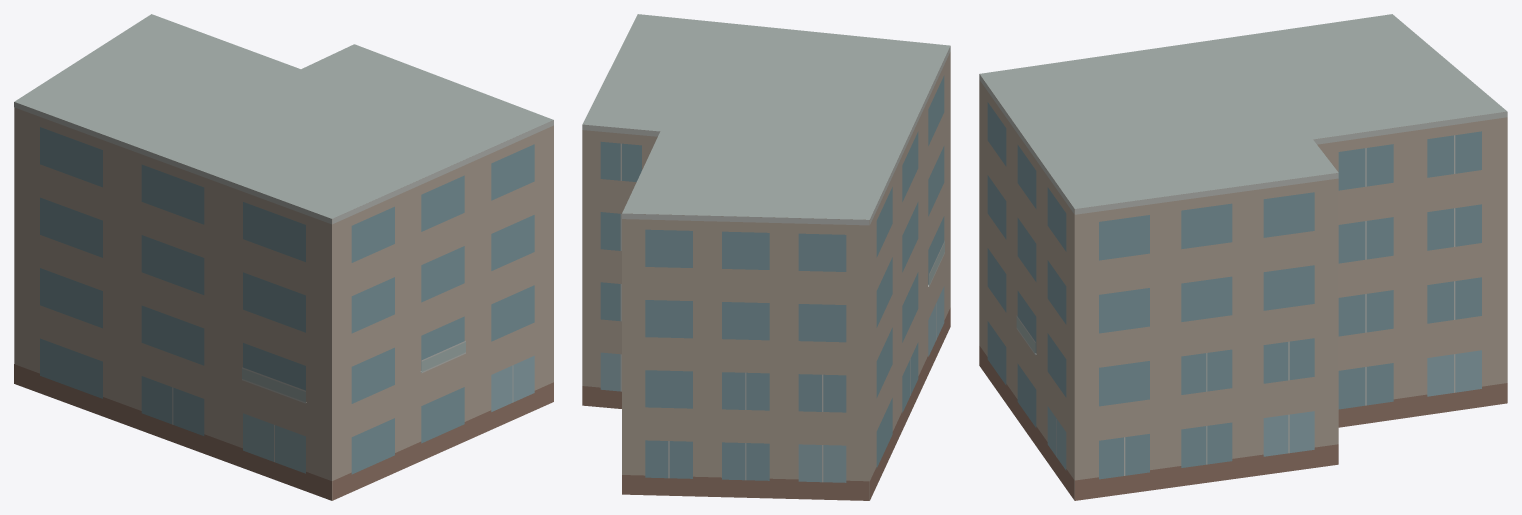
Rendered from survey-upis-32773766.glb.
3 views of the same model, side by side, from view 1: azimuth 30°, elevation 25°; view 2: azimuth 150°, elevation 25°; view 3: azimuth 270°, elevation 25° (orthographic). The views are drawn at different scales.
Visible parts, largest first — view 1: survey-upis-32773766.tmp; view 2: survey-upis-32773766.tmp; view 3: survey-upis-32773766.tmp.
Boxes of the visible parts, left/top/right/bottom form: survey-upis-32773766.tmp: left=14, top=14, right=553, bottom=500; survey-upis-32773766.tmp: left=582, top=14, right=950, bottom=500; survey-upis-32773766.tmp: left=979, top=14, right=1507, bottom=500.
Size of the model in its own units: 17.79 by 12.4 by 20.35.
